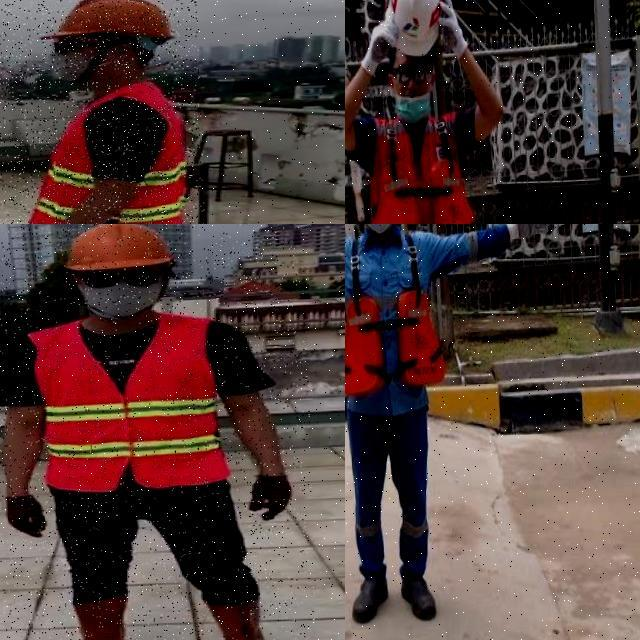boots: (197, 592, 287, 640), (52, 595, 130, 640), (346, 568, 395, 630), (398, 570, 442, 628)
helmet: (46, 0, 177, 47), (60, 224, 178, 276), (385, 0, 444, 55)
vest: (31, 313, 230, 493), (20, 82, 190, 224), (360, 110, 480, 224), (345, 287, 446, 393)
